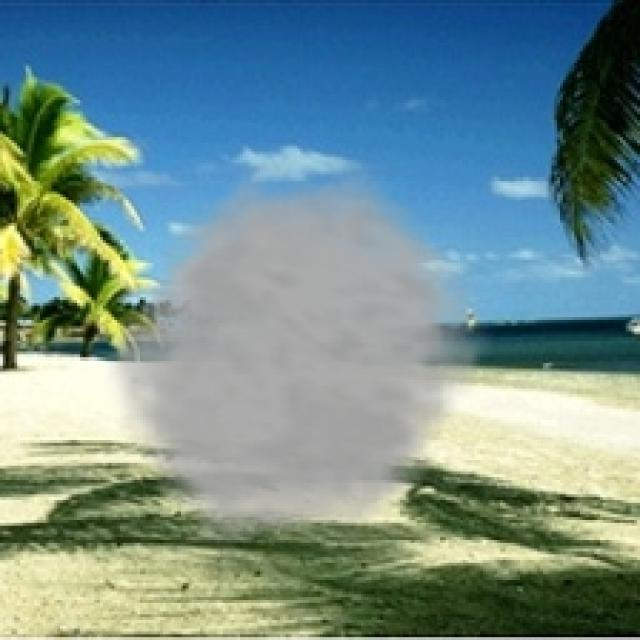Smoke: (97, 168, 500, 560)
